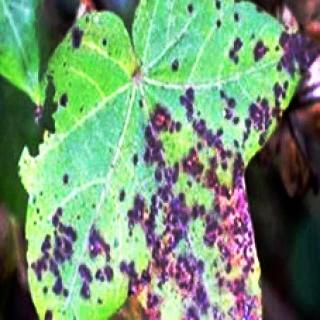leaf spot: (35, 39, 311, 318)
